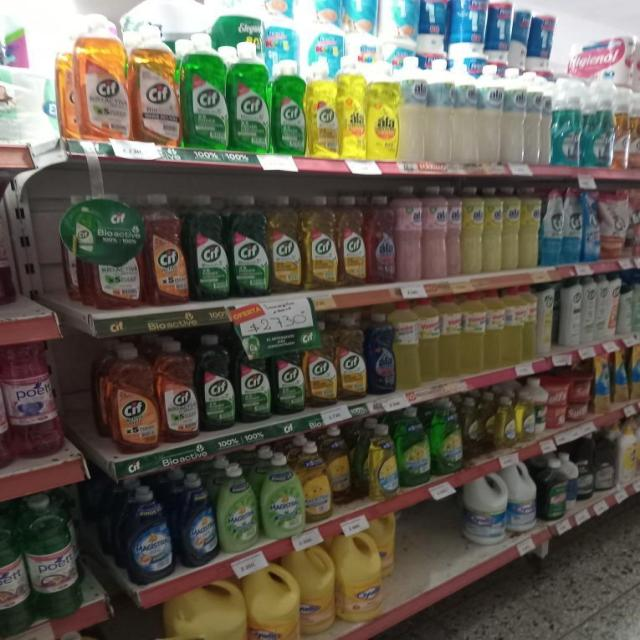ala_conc_amarillo: (368, 59, 398, 161), (339, 54, 367, 160)
ala_conc_azul: (367, 310, 394, 395)
ala_conc_rojo: (367, 194, 394, 284)
ala_crem_amarillo: (462, 186, 483, 275), (520, 185, 540, 268), (484, 186, 503, 273), (503, 186, 520, 271)
ala_crem_rosado: (396, 186, 422, 282), (423, 185, 446, 279), (448, 185, 462, 278)
cif_conc_bot_amarilla: (303, 195, 337, 291), (270, 195, 302, 294), (306, 62, 338, 158), (338, 195, 366, 288), (307, 319, 336, 408), (337, 312, 366, 400)
cif_conc_botella_roja: (102, 344, 157, 454), (131, 24, 179, 147), (144, 193, 186, 307), (159, 339, 197, 442)
cif_conc_botella_verde: (181, 32, 227, 150), (229, 40, 270, 153), (188, 194, 228, 302), (231, 195, 268, 298), (199, 333, 235, 432), (272, 60, 305, 156), (237, 334, 271, 423), (272, 339, 304, 415)
magistral_con_azul: (121, 485, 173, 584)
